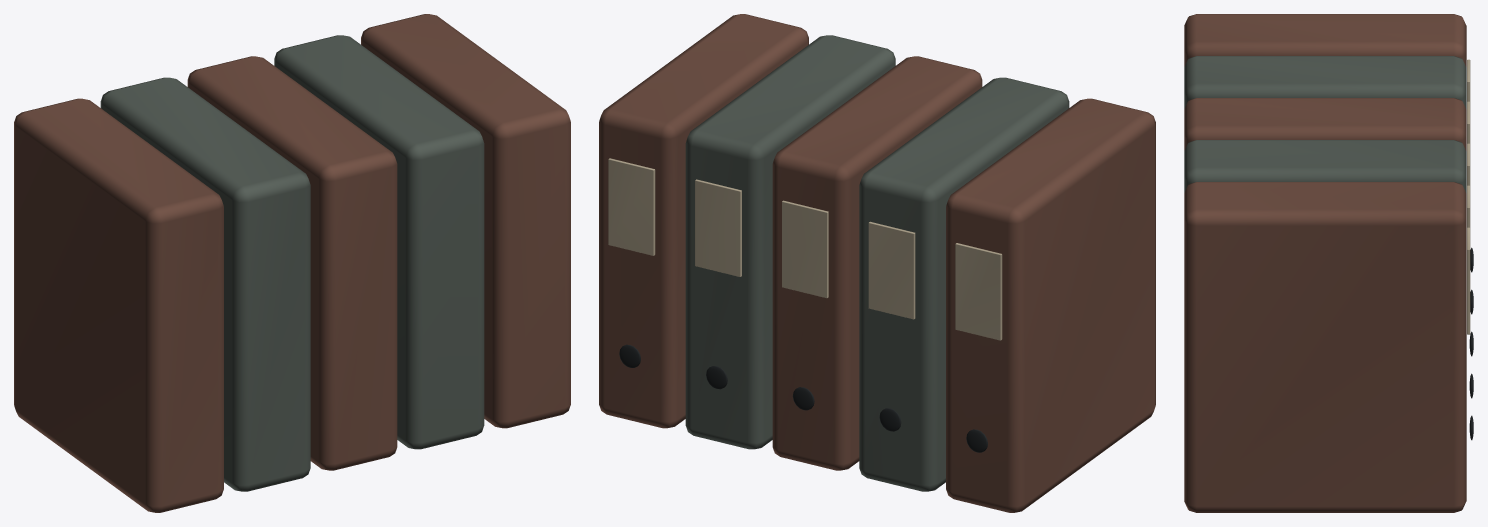
Rendered from prop-archive-boxes-v01.glb.
3 views of the same model, side by side, from view 1: azimuth 30°, elevation 25°; view 2: azimuth 150°, elevation 25°; view 3: azimuth 270°, elevation 25° (orthographic).
Visible parts, largest first — view 1: archive-boxes; view 2: archive-boxes; view 3: archive-boxes.
Part boxes in pixels (x1=…): archive-boxes: x1=14, y1=14, x2=570, y2=512; archive-boxes: x1=599, y1=14, x2=1155, y2=512; archive-boxes: x1=1184, y1=14, x2=1473, y2=512.
Bounding box in the file's own units: 0.465 × 0.32 × 0.277.
